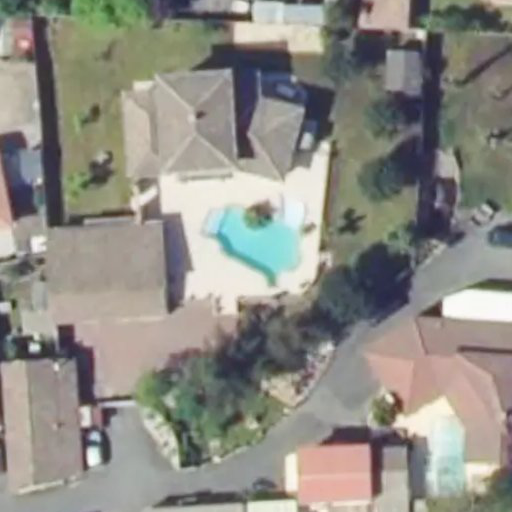pool: (217, 203, 299, 282)
